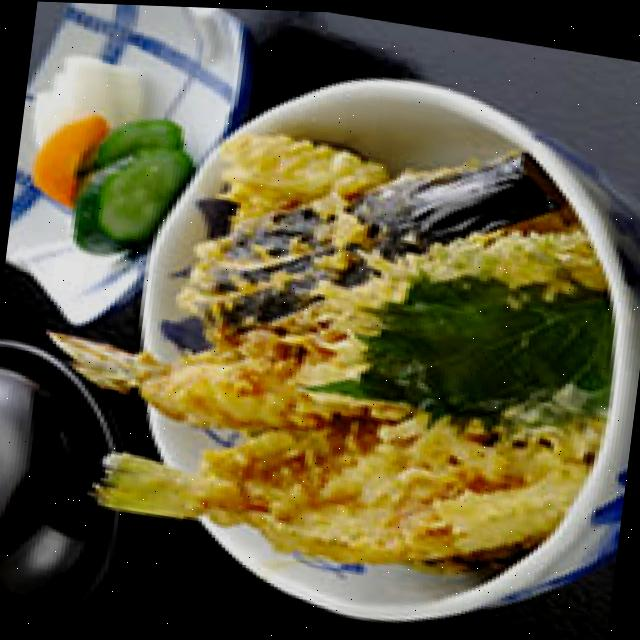熟制海鲜: (80, 15, 640, 640)
